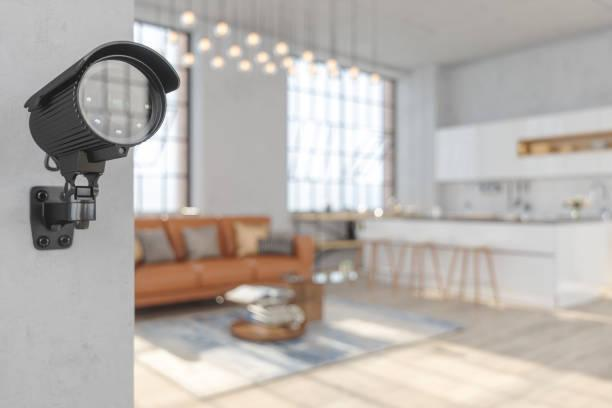camera: (2, 13, 230, 213)
